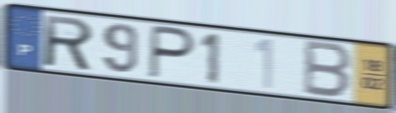1: (199, 31, 222, 85), (253, 37, 274, 91)
9: (100, 21, 140, 76)
B: (300, 38, 354, 101)
P: (146, 23, 198, 82)
R: (42, 13, 96, 73)
